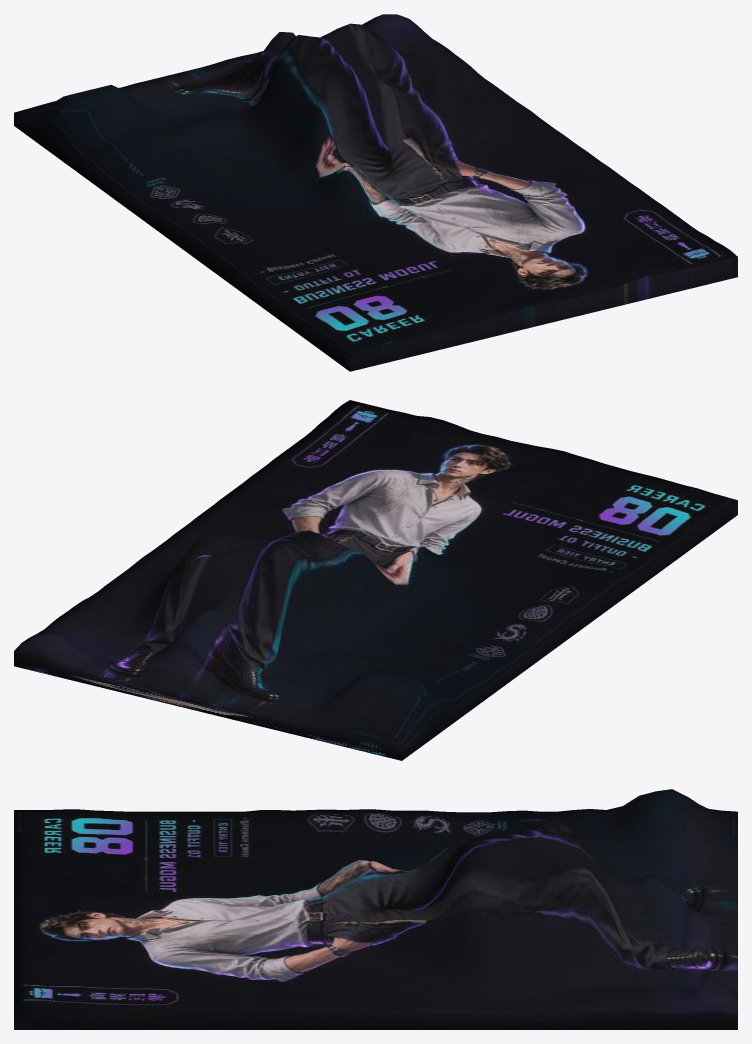
Rendered from CAREER_08_Outfit_01_Entry.glb.
3 renders of one model, top to bottom at view 1: azimuth 30°, elevation 25°; view 2: azimuth 150°, elevation 25°; view 3: azimuth 270°, elevation 25°, orthographic. The views are drawn at different scales.
Visible parts, largest first — view 1: CAREER_08_Outfit_01_Entry; view 2: CAREER_08_Outfit_01_Entry; view 3: CAREER_08_Outfit_01_Entry.
Boxes of the visible parts, x1=… form: CAREER_08_Outfit_01_Entry: x1=14, y1=14, x2=737, y2=371; CAREER_08_Outfit_01_Entry: x1=14, y1=400, x2=737, y2=760; CAREER_08_Outfit_01_Entry: x1=14, y1=789, x2=737, y2=1029.
Bounding box in the file's own units: 2 × 0.51 × 3.
Materials: 1 (1 with a texture image).
